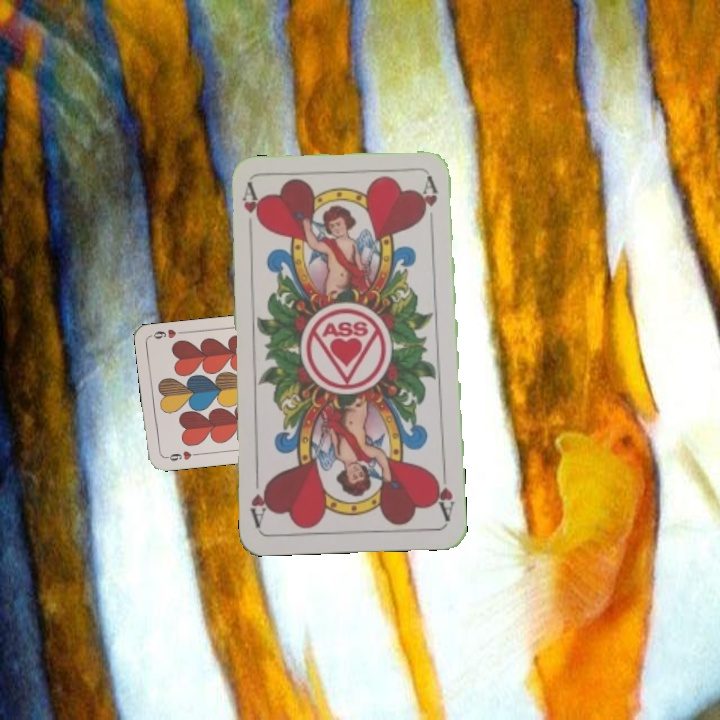H9: (161, 447, 202, 464)
HA: (430, 464, 458, 523), (238, 181, 262, 240)
